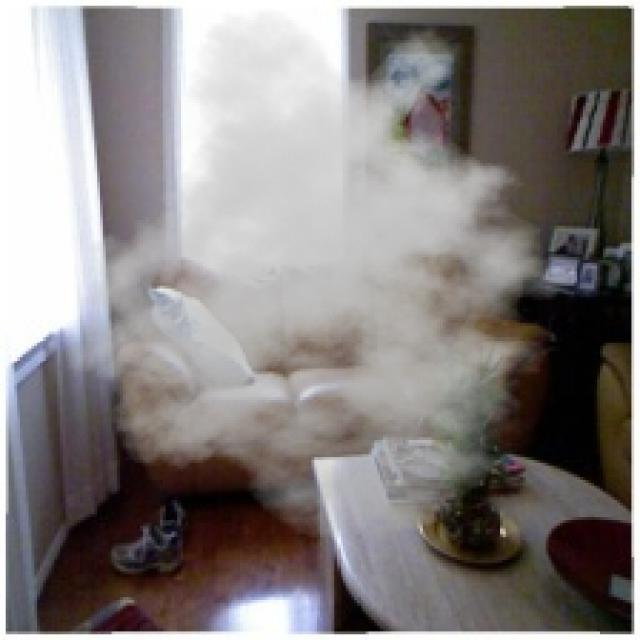smoke: (54, 6, 603, 540)
